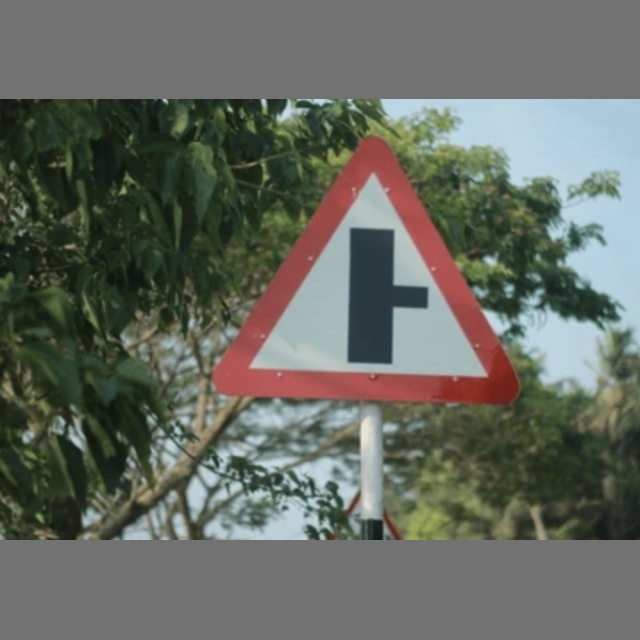Side_Road_Right: (230, 141, 516, 406)
